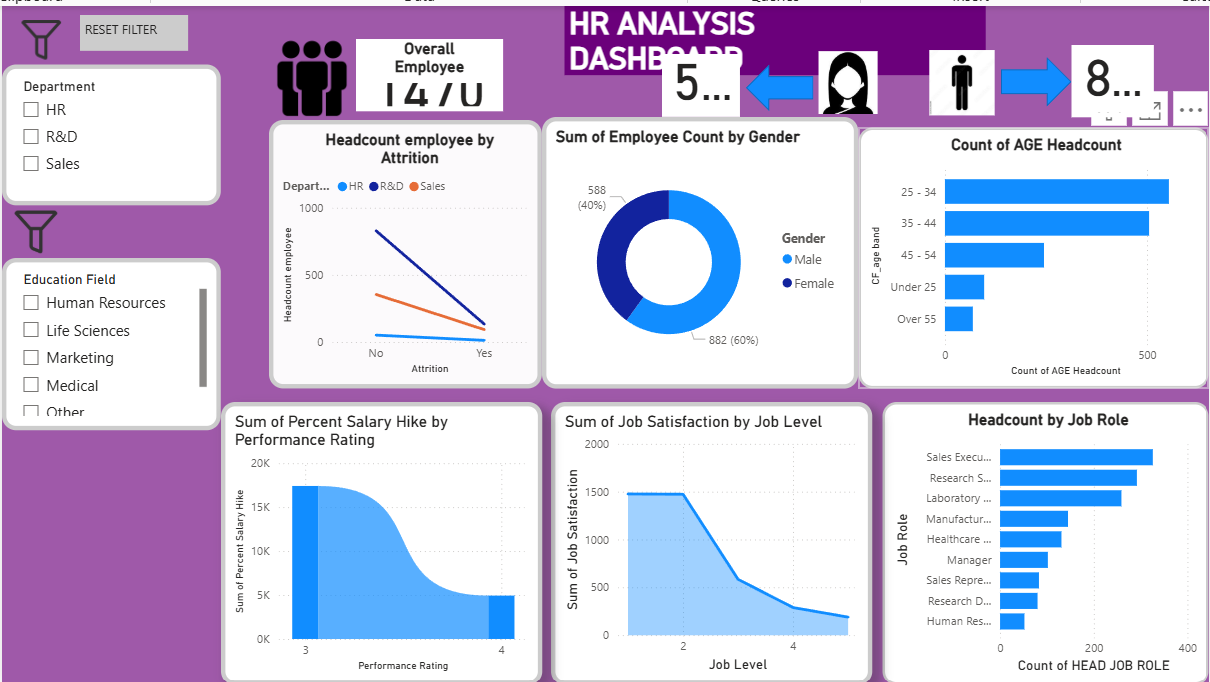

The dashboard page shown, as its layout file describes it:
{"tool":"powerbi","page":{"name":"Page 1","canvas":[1280,720],"ordinal":0},"visuals":[{"type":"lineChart","title":"Headcount employee by Attrition ","fields":{"Y":["HR data.Headcount employee"],"Category":["HR data.Attrition"],"Series":["HR data.Department"]},"box":[283.1,120.9,289.5,284.7],"z":0},{"type":"donutChart","fields":{"Category":["HR data.Gender"],"Y":["Sum(HR data.Employee Count)"]},"box":[572.6,117.7,335.6,287.9],"z":1000},{"type":"barChart","title":"Count of AGE Headcount ","fields":{"Y":["CountNonNull(HR data.AGE Headcount)"],"Category":["HR data.CF_age band"]},"box":[908.2,128.8,372.2,276.8],"z":2000},{"type":"textbox","title":"HR ANALYSIS DASHBOARD","box":[597.2,0,429,47.2],"z":3000},{"type":"slicer","fields":{"Values":["HR data.Department"]},"box":[0,62,232.2,149.5],"z":4000},{"type":"image","box":[0,9.5,82.7,52.5],"z":5000},{"type":"textbox","box":[82.7,9.5,114.5,38.2],"z":6000},{"type":"slicer","fields":{"Values":["HR data.Education Field"]},"box":[0,267.2,232.2,182.9],"z":7000},{"type":"image","box":[0,211.6,71.6,55.7],"z":8000},{"type":"barChart","title":"Headcount by Job Role","fields":{"Y":["CountNonNull(HR data.HEAD JOB ROLE)"],"Category":["HR data.Job Role"]},"box":[933.7,419.9,346.8,300.6],"z":9000},{"type":"image","box":[860.5,23.9,73.2,114.5],"z":10000},{"type":"image","box":[976.6,41.4,82.7,79.5],"z":11000},{"type":"image","box":[270.4,22.3,116.1,108.2],"z":12000},{"type":"shape","box":[788.9,62,71.6,49.3],"z":13000},{"type":"shape","box":[1059.3,54.1,74.8,52.5],"z":14000},{"type":"card","title":"Overall Employee","fields":{"Values":["HR data.Headcount employee"]},"box":[375.4,35,155.9,76.3],"z":15000},{"type":"card","fields":{"Values":["HR data.Female"]},"box":[699.9,50.9,82.7,66.8],"z":16000},{"type":"card","fields":{"Values":["HR data.Male"]},"box":[1134.1,41.4,87.5,76.3],"z":17000},{"type":"stackedAreaChart","fields":{"Y":["Sum(HR data.Job Satisfaction)"],"Category":["HR data.Job Level"]},"box":[582.2,419.9,340.4,300.6],"z":18000},{"type":"ribbonChart","fields":{"Y":["Sum(HR data.Percent Salary Hike)"],"Category":["HR data.Performance Rating"]},"box":[232.2,419.9,340.4,300.6],"z":19000}]}

Visuals, with their boxes in screenshot pixels (x1, y1, x2, y2):
"Headcount employee by Attrition " lineChart: l=267, t=116, r=537, b=381
donutChart - HR data.Gender x Sum(HR data.Employee Count): l=537, t=113, r=850, b=381
"Count of AGE Headcount " barChart: l=850, t=123, r=1197, b=381
"HR ANALYSIS DASHBOARD" textbox: l=560, t=3, r=960, b=47
slicer - HR data.Department: l=3, t=61, r=220, b=200
image: l=3, t=12, r=80, b=61
textbox: l=80, t=12, r=187, b=48
slicer - HR data.Education Field: l=3, t=252, r=220, b=423
image: l=3, t=200, r=70, b=252
"Headcount by Job Role" barChart: l=874, t=395, r=1197, b=675
image: l=805, t=25, r=874, b=132
image: l=914, t=42, r=991, b=116
image: l=255, t=24, r=363, b=125
shape: l=739, t=61, r=805, b=107
shape: l=991, t=54, r=1060, b=103
"Overall Employee" card: l=353, t=36, r=498, b=107
card - HR data.Female: l=656, t=51, r=733, b=113
card - HR data.Male: l=1060, t=42, r=1142, b=113
stackedAreaChart - Sum(HR data.Job Satisfaction) x HR data.Job Level: l=546, t=395, r=863, b=675
ribbonChart - Sum(HR data.Percent Salary Hike) x HR data.Performance Rating: l=220, t=395, r=537, b=675
